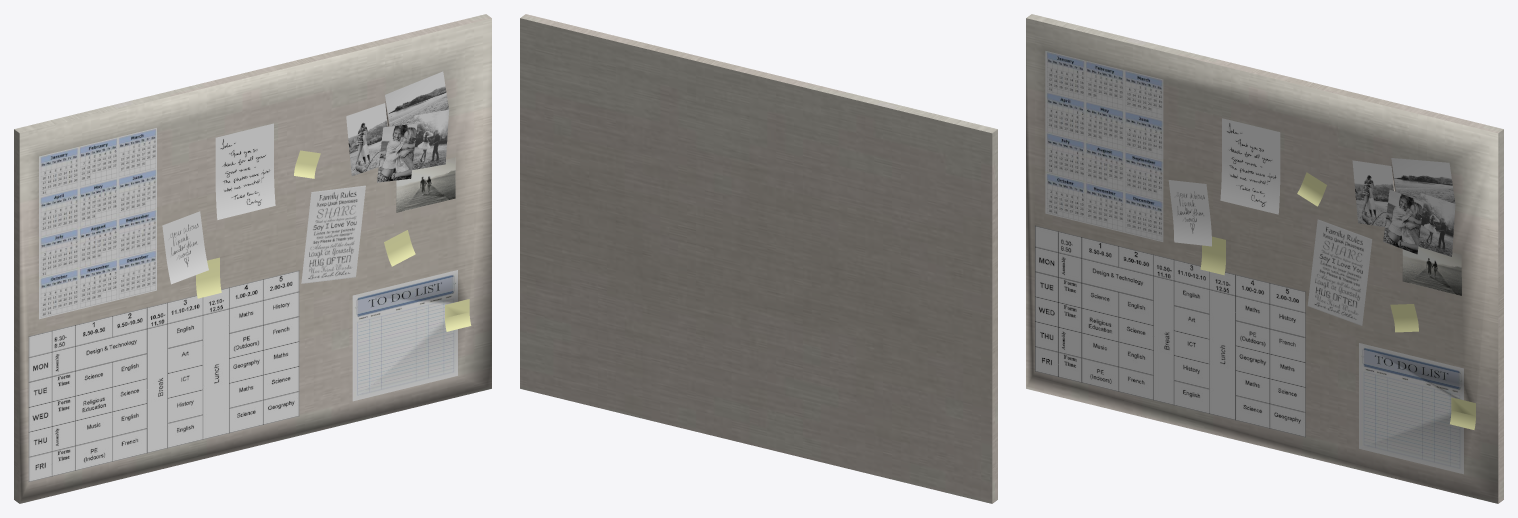
File: papan buletin 6.fbx
3 views of the same model, side by side, from view 1: azimuth 30°, elevation 25°; view 2: azimuth 150°, elevation 25°; view 3: azimuth 330°, elevation 25° (orthographic).
Visible parts, largest first — view 1: Sketchup, G-__556275; view 2: Sketchup; view 3: Sketchup, G-__556275.
Boxes of the visible parts, x1,y1,x2,y2 form: Sketchup: (14, 14, 491, 503); G-__556275: (196, 257, 221, 298); Sketchup: (520, 14, 997, 503); Sketchup: (1026, 14, 1503, 503); G-__556275: (1200, 236, 1225, 275).
Bounding box in the file's own units: 122 × 91.44 × 3.33.
Materials: 12 (11 with a texture image).
